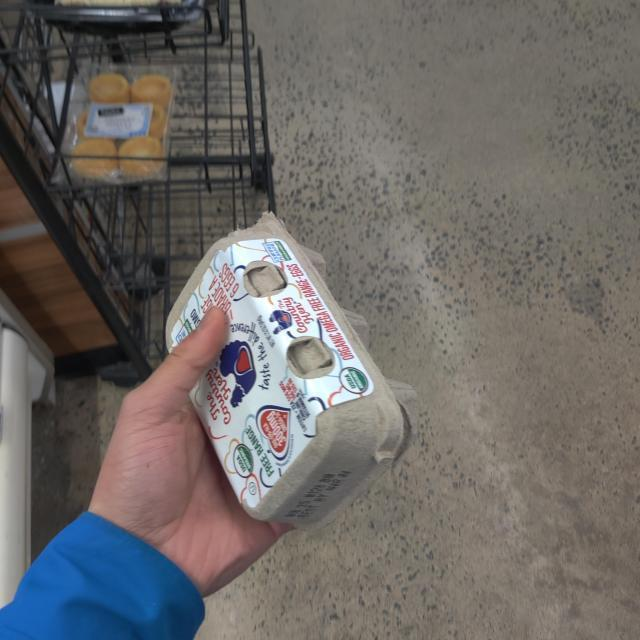Eggs: (163, 190, 423, 540)
